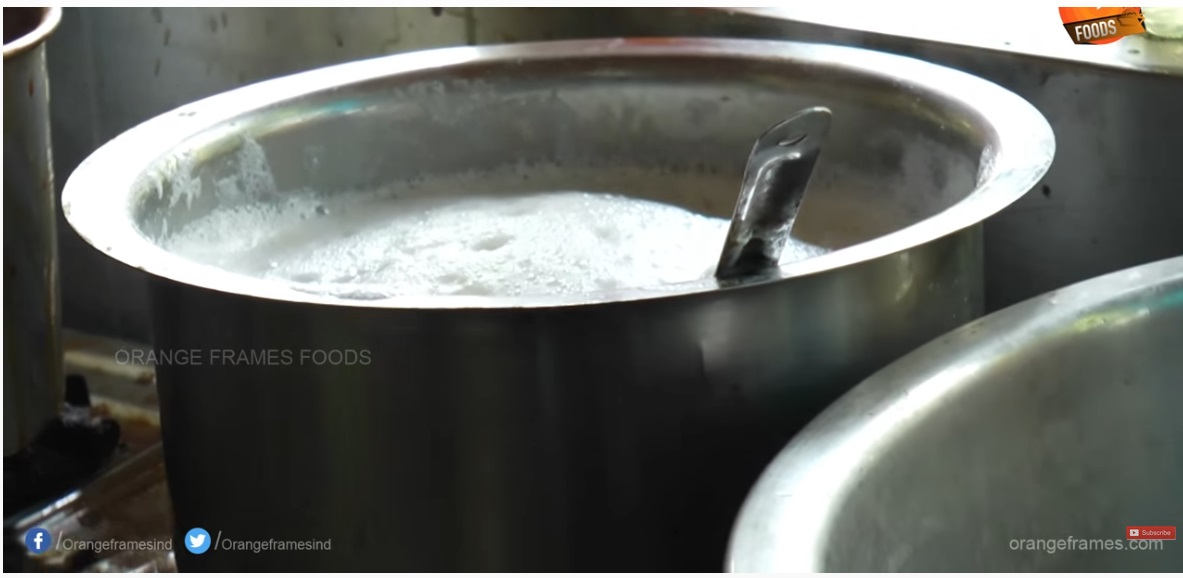Steaming: (114, 62, 1037, 480)
